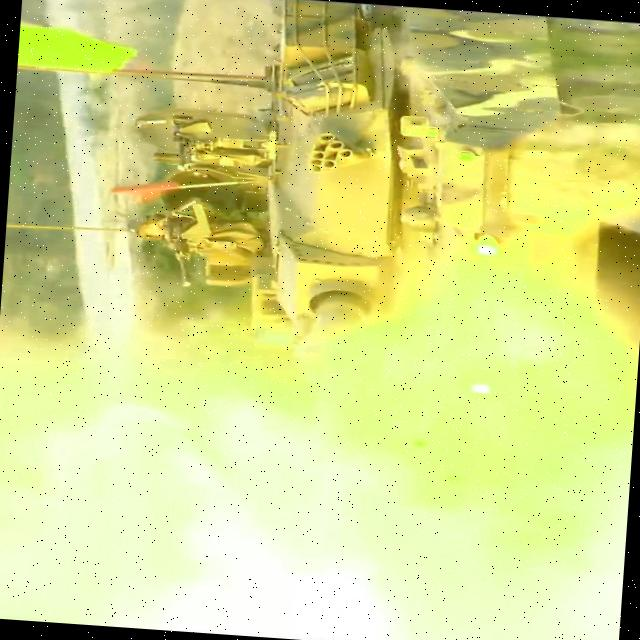korea tank: (88, 0, 640, 508)
